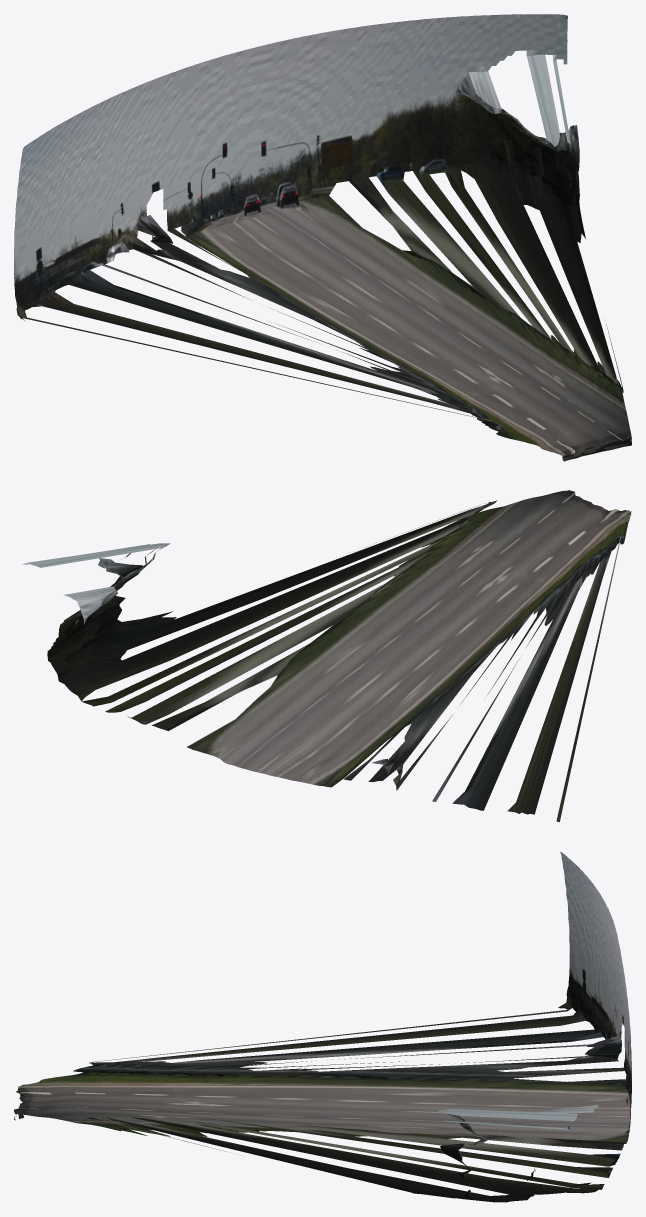
3 renders of one model, top to bottom at view 1: azimuth 30°, elevation 25°; view 2: azimuth 150°, elevation 25°; view 3: azimuth 270°, elevation 25°, orthographic. The views are drawn at different scales.
Parts seen in each view (by area): view 1: defaultobject; view 2: defaultobject; view 3: defaultobject.
Part boxes in pixels (box(x1,y1,x2,y2)): defaultobject: box(14, 14, 631, 461); defaultobject: box(21, 490, 631, 822); defaultobject: box(14, 851, 631, 1202).
Size of the model in its own units: 41.05 by 13.22 by 44.32.
1 material, 1 textured.
